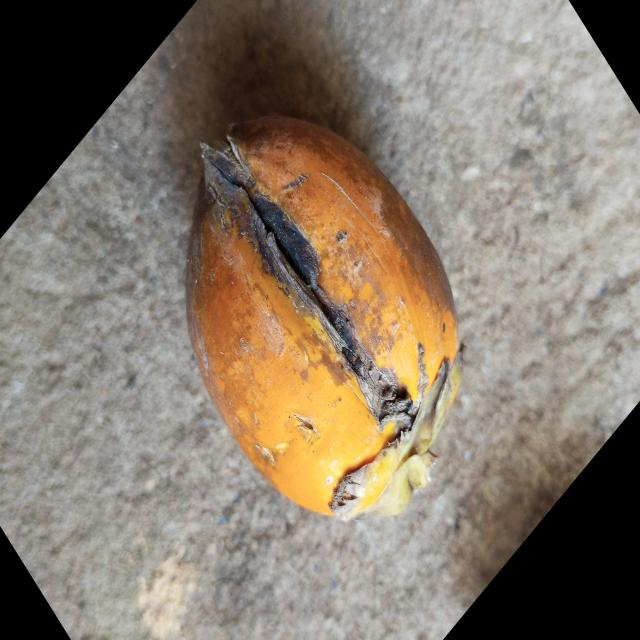damaged: (184, 118, 461, 523)
